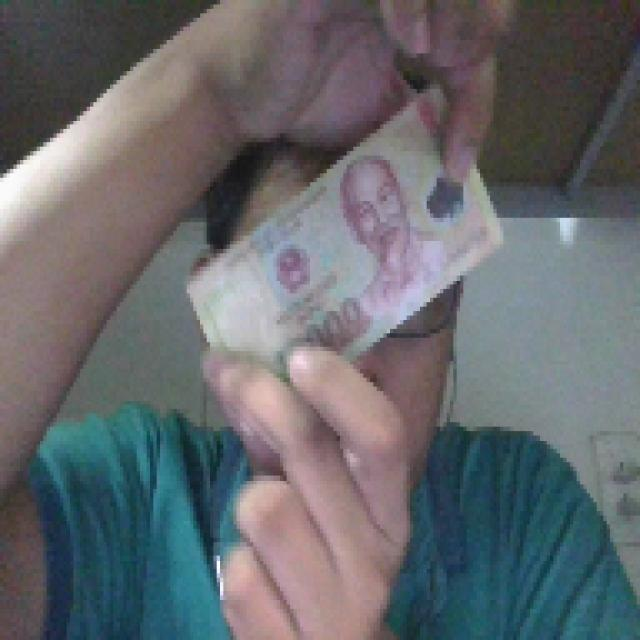10 000 VND: (183, 76, 507, 387)
